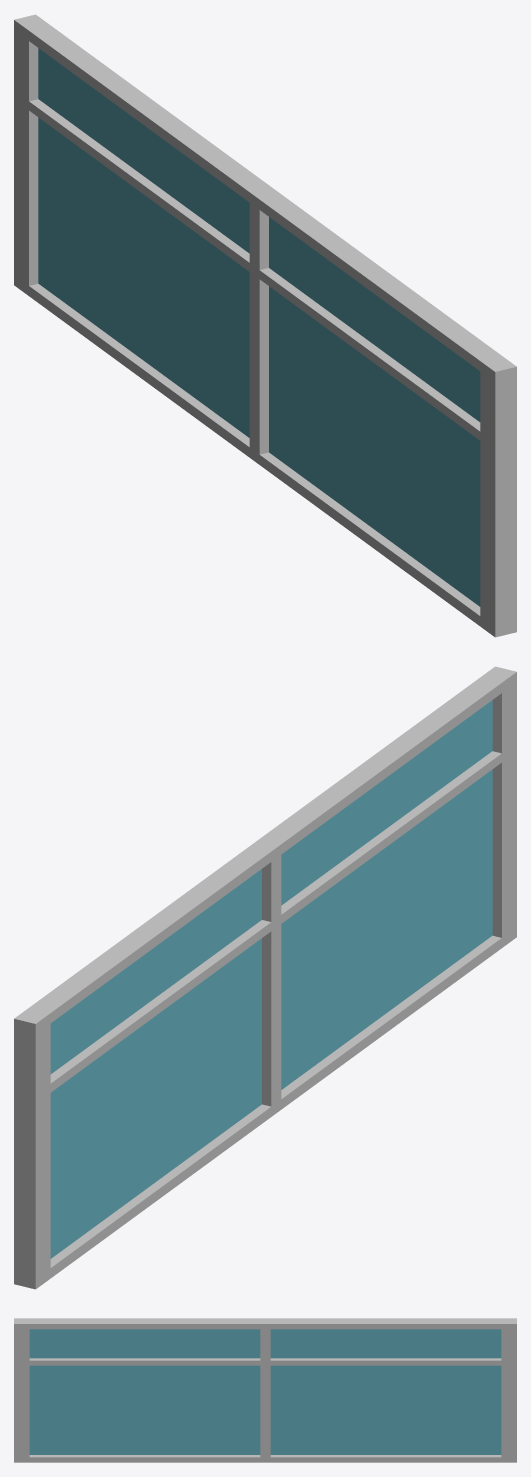
Rendered from Window.fbx.
3 views of the same model, one above another, from view 1: azimuth 30°, elevation 25°; view 2: azimuth 150°, elevation 25°; view 3: azimuth 270°, elevation 25° (orthographic). The views are drawn at different scales.
Parts seen in each view (by area): view 1: WindowGlass_low, WindowFrame_low; view 2: WindowGlass_low, WindowFrame_low; view 3: WindowGlass_low, WindowFrame_low.
Boxes of the visible parts, left/top/right/bottom form: WindowGlass_low: left=38, top=48, right=480, bottom=606; WindowFrame_low: left=14, top=14, right=516, bottom=637; WindowGlass_low: left=50, top=700, right=492, bottom=1258; WindowFrame_low: left=14, top=666, right=516, bottom=1289; WindowGlass_low: left=29, top=1329, right=501, bottom=1454; WindowFrame_low: left=14, top=1318, right=516, bottom=1462.
Bounding box in the file's own units: 30 × 350 × 1150.
